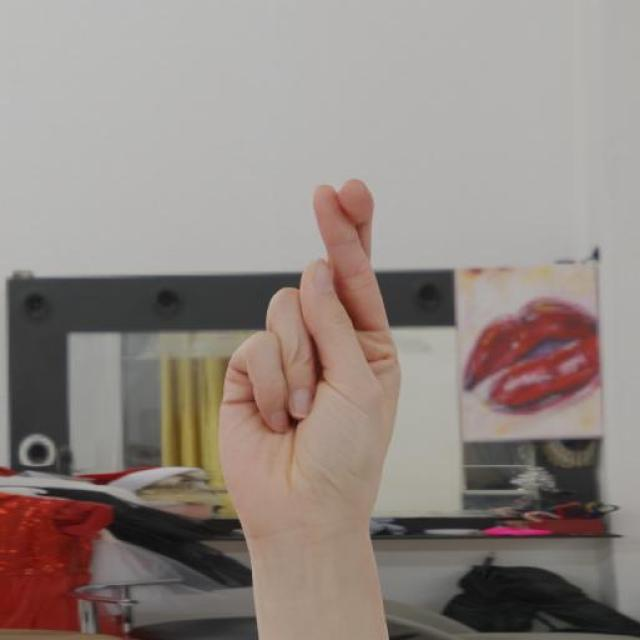R: (215, 173, 406, 555)
